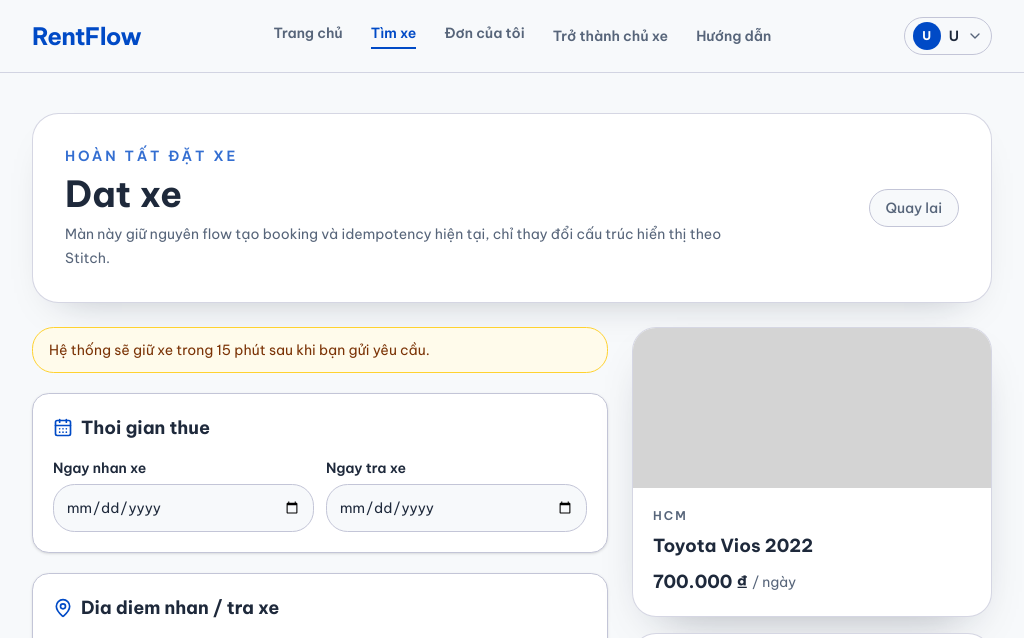
BookingCreatePageView › maps backend driver-verification blocker to friendly Vietnamese message
Expected: the heading "Dat xe" is shown, [65, 171, 182, 217]
Type "2026-06-05" into the date field below "Ngay nhan xe".
click(184, 508); type("2026-06-05")  # box [53, 484, 314, 532]
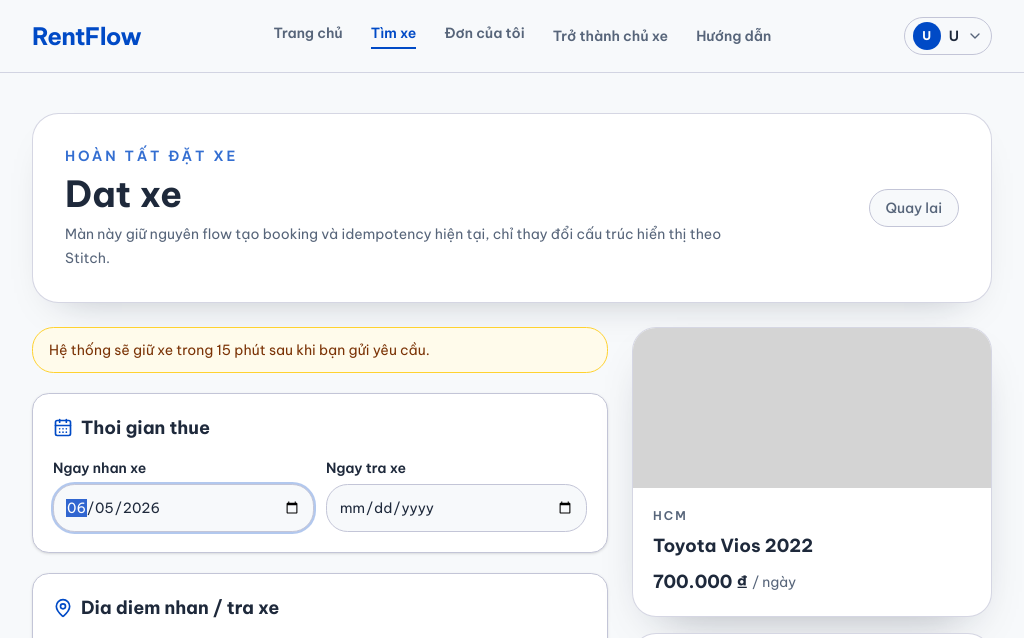
Type "2026-06-07" into the date field below "Ngay tra xe".
click(456, 508); type("2026-06-07")  # box [326, 484, 587, 532]
(page scrolled)
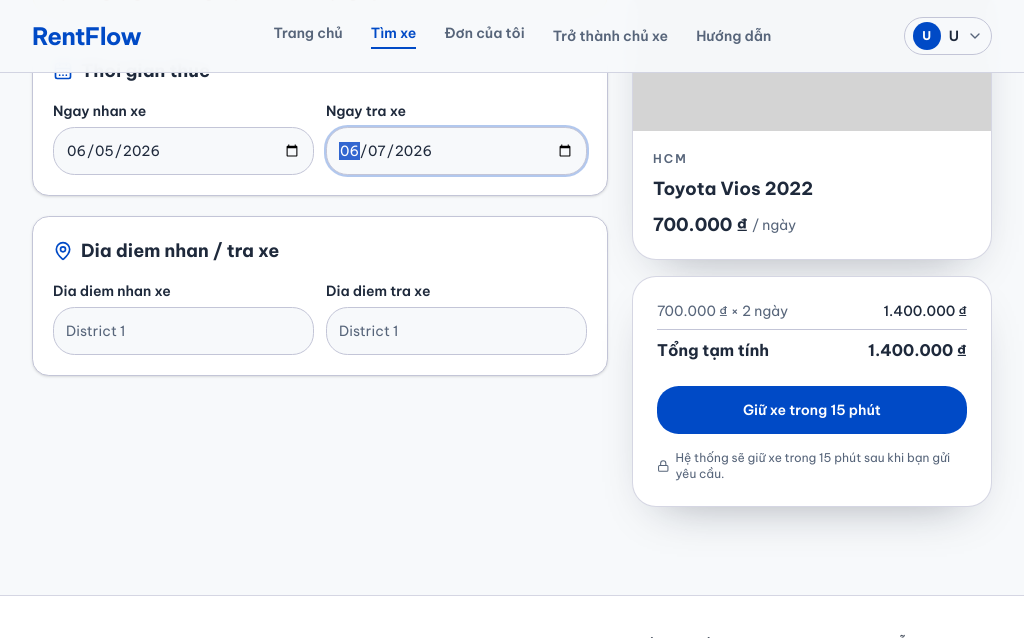
Click the button "Giữ xe trong 15 phút".
click(812, 410)  # box [657, 386, 967, 434]
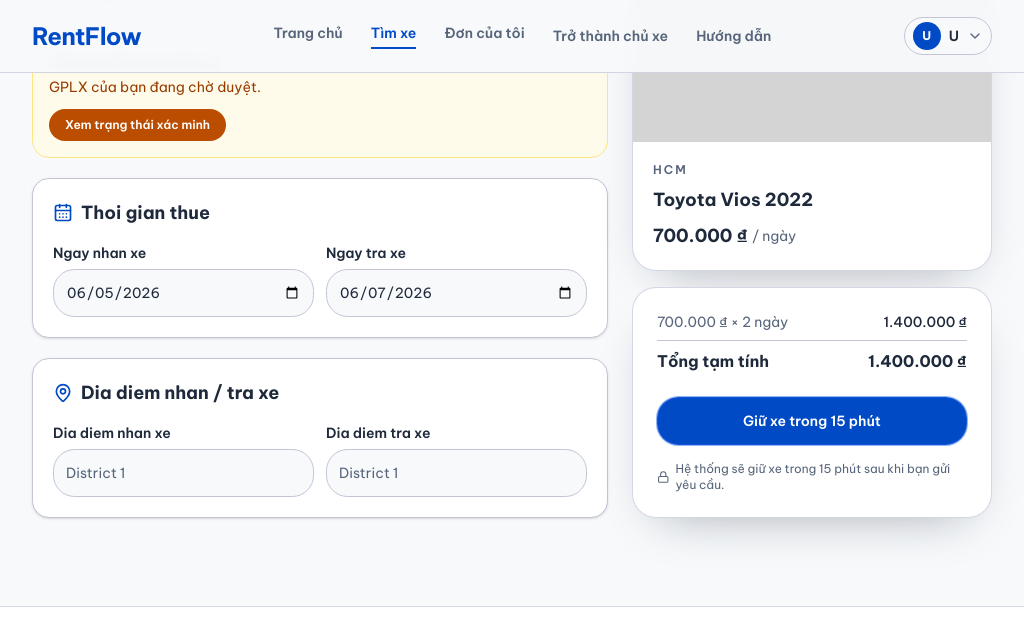
Now the text "GPLX của bạn đang chờ duyệt." is shown, box [49, 78, 261, 96]
